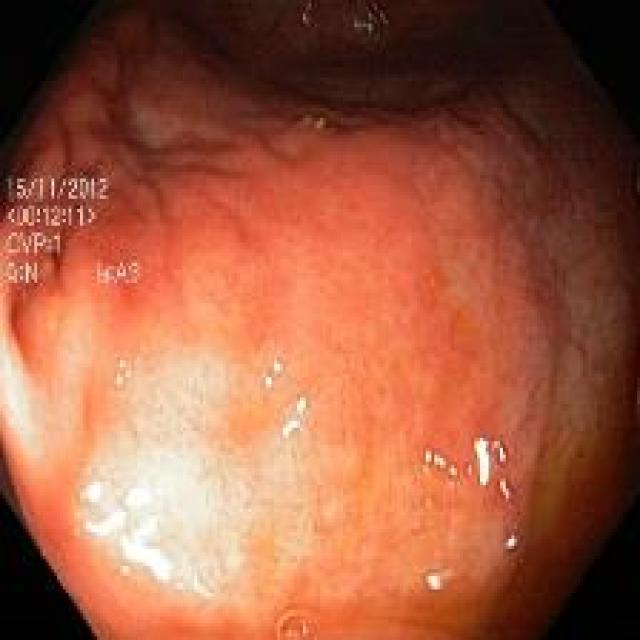ulcerative-colitis-grade-1: (2, 27, 636, 636)
